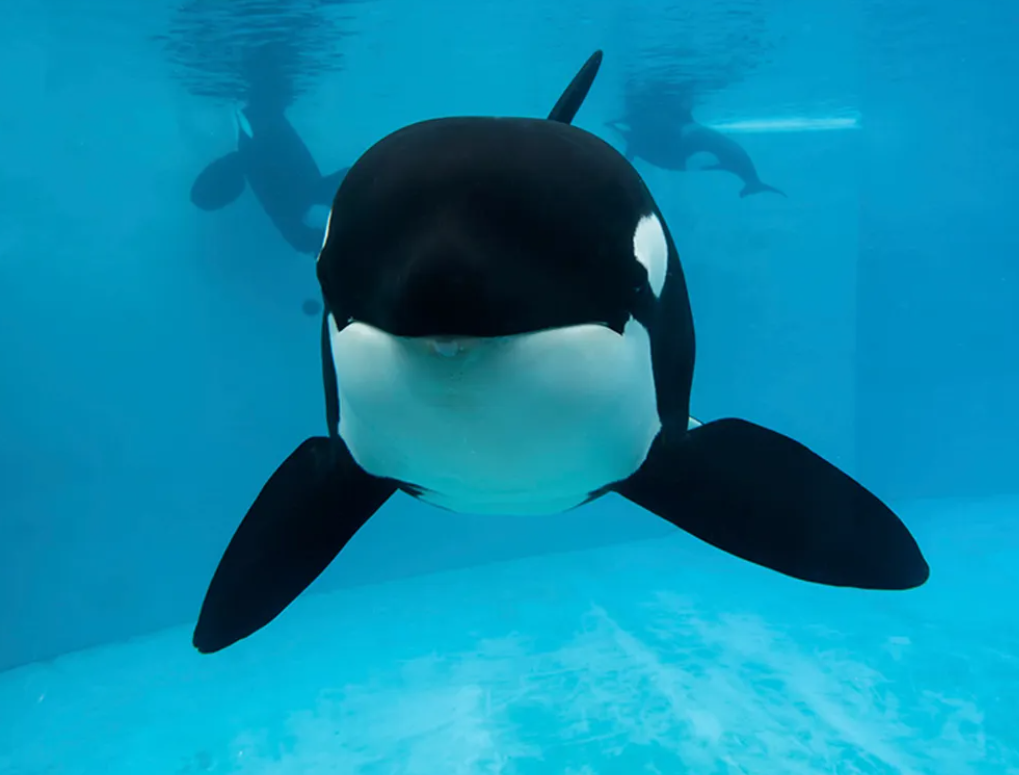Orca whale: (189, 47, 937, 660)
